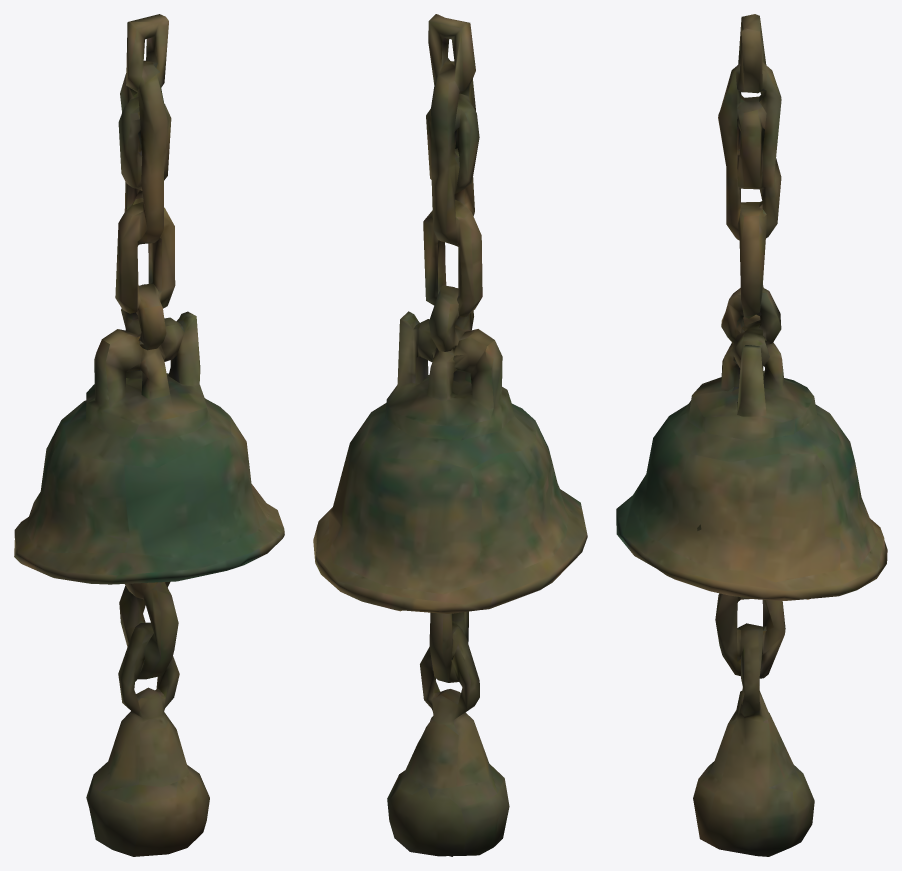
File: worn-bronze-bell-v001.glb
3 renders of one model, left to right at view 1: azimuth 30°, elevation 25°; view 2: azimuth 150°, elevation 25°; view 3: azimuth 270°, elevation 25°, orthographic.
Visible parts, largest first — view 1: worn-bronze-bell; view 2: worn-bronze-bell; view 3: worn-bronze-bell.
Boxes of the visible parts, x1,y1,x2,y2 form: worn-bronze-bell: [14, 14, 284, 856]; worn-bronze-bell: [313, 14, 587, 856]; worn-bronze-bell: [616, 14, 887, 856].
Bounding box in the file's own units: 0.349 × 1.18 × 0.3491.
1 material, 1 textured.
